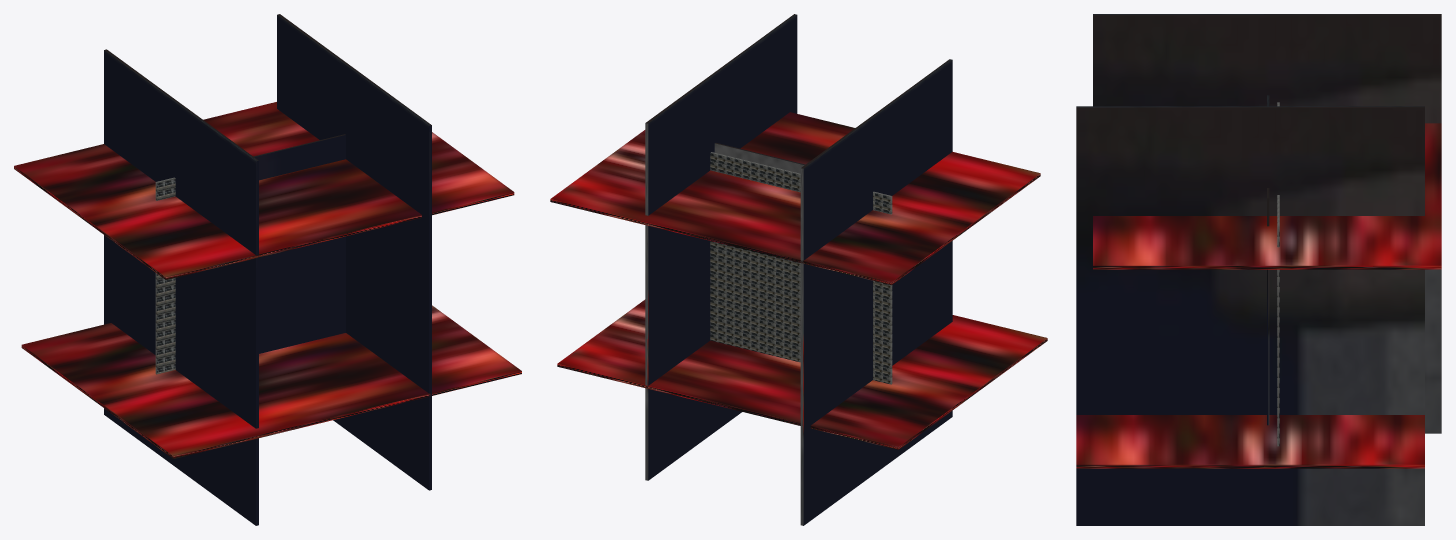
Rendered from juggernaut4.glb.
The picture shows the model from 3 angles, left to right: view 1: azimuth 30°, elevation 25°; view 2: azimuth 150°, elevation 25°; view 3: azimuth 270°, elevation 25°; orthographic projection. The views are drawn at different scales.
Parts seen in each view (by area): view 1: Cube.5137, Cube.5138, Cube.4071, Cube.4070, Cube.5136; view 2: Cube.5137, Cube.4071, Cube.5138, Cube.4070, Cube.5136; view 3: Cube.5138, Cube.5137, Cube.4071, Cube.4070, Cube.5136.
Part boxes in pixels (x1,y1,x2,y2): Cube.5137: (104, 49, 258, 525); Cube.5138: (277, 14, 431, 490); Cube.4071: (14, 102, 514, 279); Cube.4070: (21, 305, 521, 458); Cube.5136: (253, 134, 345, 353); Cube.5137: (800, 59, 952, 525); Cube.4071: (550, 112, 1040, 285); Cube.5138: (645, 14, 797, 480); Cube.4070: (557, 299, 1047, 449); Cube.5136: (714, 143, 805, 173); Cube.5138: (1076, 106, 1424, 525); Cube.5137: (1093, 14, 1441, 433); Cube.4071: (1093, 123, 1441, 269); Cube.4070: (1076, 415, 1424, 468); Cube.5136: (1267, 95, 1269, 425).
Bounding box in the file's own units: 500 × 500 × 395.
Materials: 47 (47 with a texture image).
